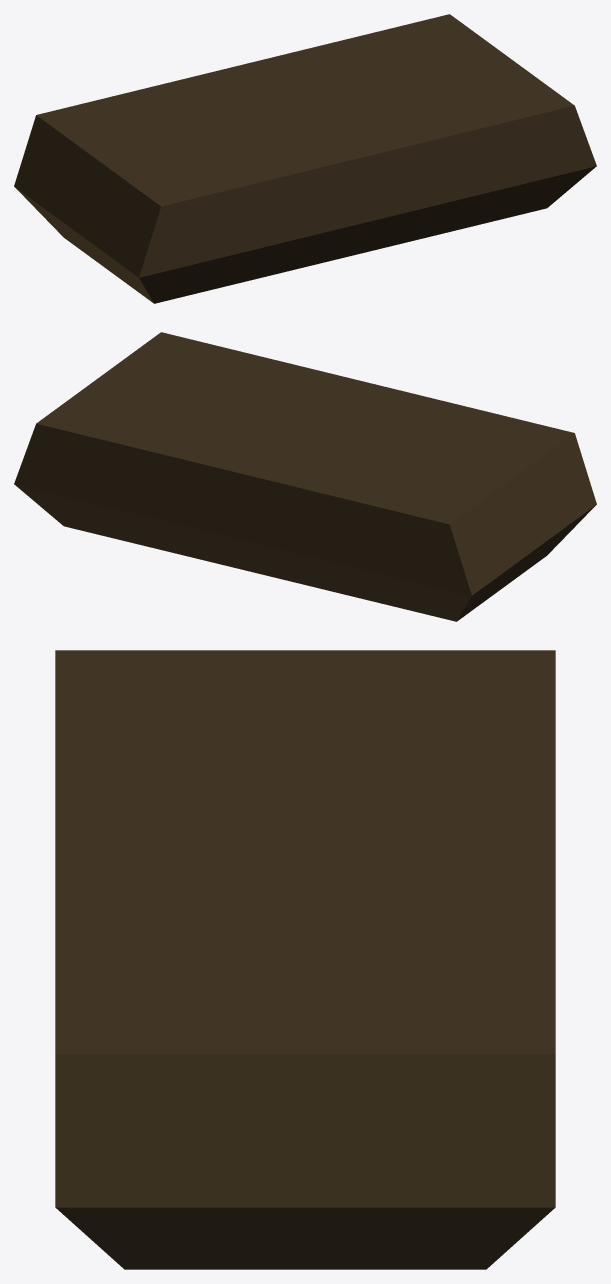
Rendered from Itr_Obj_Grandfatherclock1_Base_02.FBX.
The picture shows the model from 3 angles, top to bottom: view 1: azimuth 30°, elevation 25°; view 2: azimuth 150°, elevation 25°; view 3: azimuth 270°, elevation 25°; orthographic projection. The views are drawn at different scales.
Visible parts, largest first — view 1: Itr_Obj_Grandfatherclock1_Base_02; view 2: Itr_Obj_Grandfatherclock1_Base_02; view 3: Itr_Obj_Grandfatherclock1_Base_02.
Boxes of the visible parts, <box> form: Itr_Obj_Grandfatherclock1_Base_02: <box>14,14,596,303</box>; Itr_Obj_Grandfatherclock1_Base_02: <box>14,332,596,621</box>; Itr_Obj_Grandfatherclock1_Base_02: <box>55,650,555,1269</box>.
Size of the model in its own units: 22.36 by 5.26 by 10.57.
